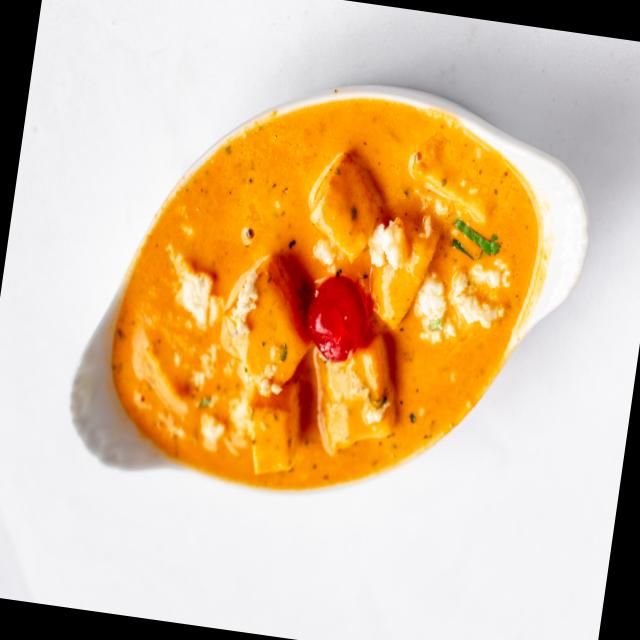ShahiPaneer: (98, 72, 553, 523)
